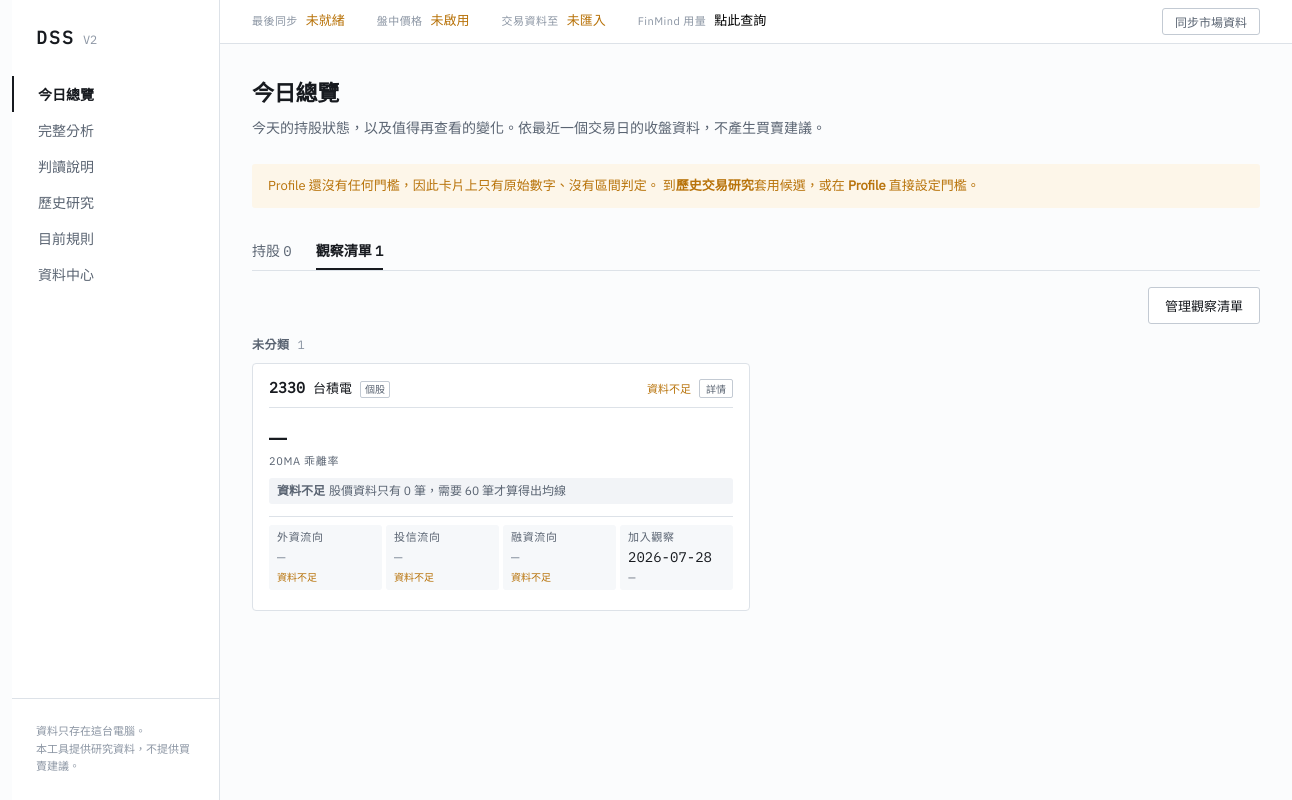
Scenario: AppShell › 同步完成後，今日 DSS 的卡片立即重算，不必重新整理
Expected: the text "股價資料只有 0 筆，需要 60 筆才算得出均線" is shown, [329,482,566,500]
Click the button "同步市場資料" at (1211, 22), box [1162,8,1260,35]
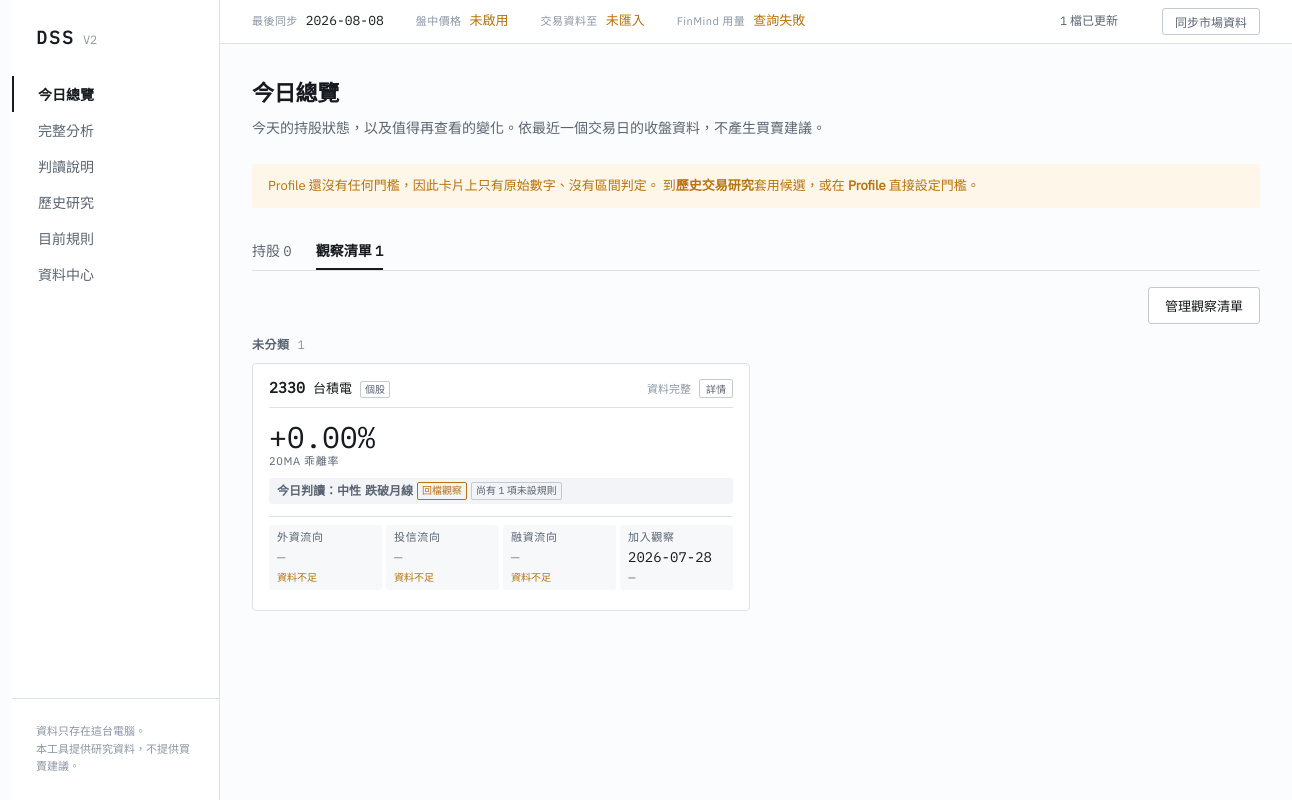
Now the text "資料完整" is shown, box [647,380,691,398]
